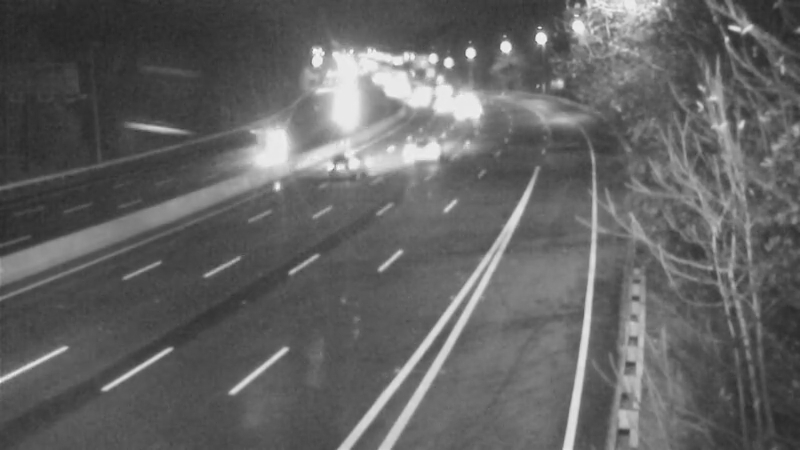vehicle: (308, 129, 388, 209), (413, 63, 463, 113), (391, 65, 441, 115), (437, 74, 487, 124), (390, 76, 440, 126), (414, 78, 464, 128), (434, 85, 484, 135), (391, 124, 441, 174), (246, 119, 296, 169)
